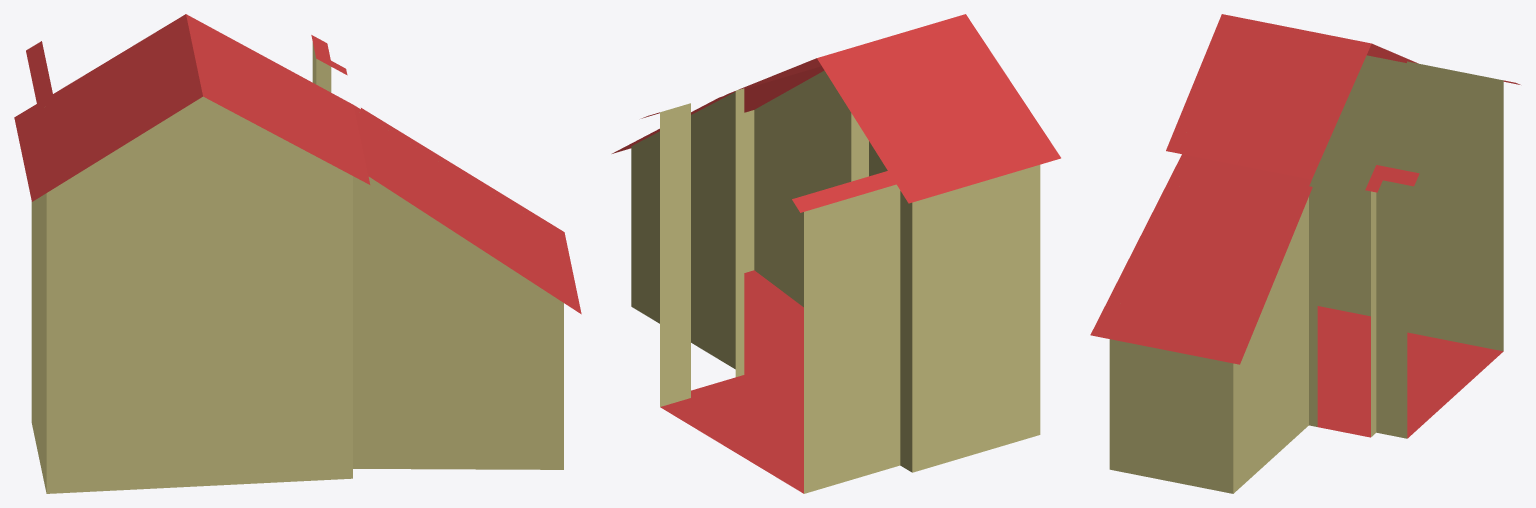
3 renders of one model, left to right at view 1: azimuth 30°, elevation 25°; view 2: azimuth 150°, elevation 25°; view 3: azimuth 270°, elevation 25°, orthographic. The views are drawn at different scales.
Size of the model in its own units: 18.21 by 15.85 by 13.55.
